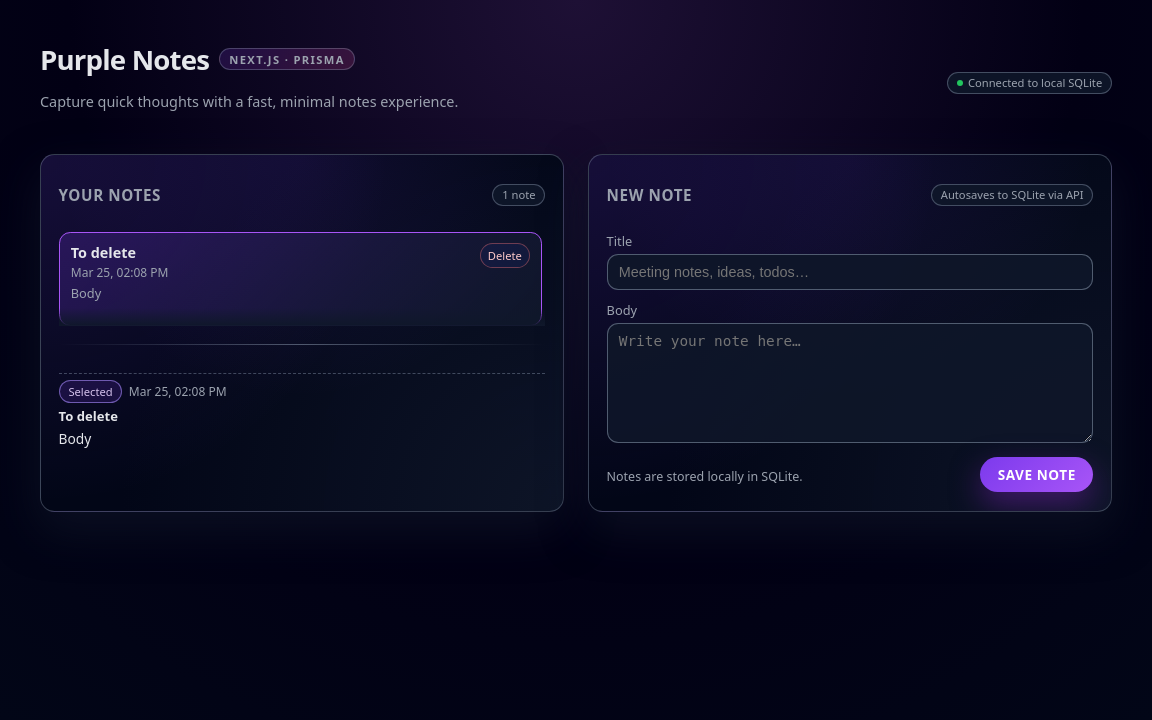
HomePage UI › deletes a note
Click the button with aria-label "delete note". click: (505, 255)
box: [480,243,530,268]
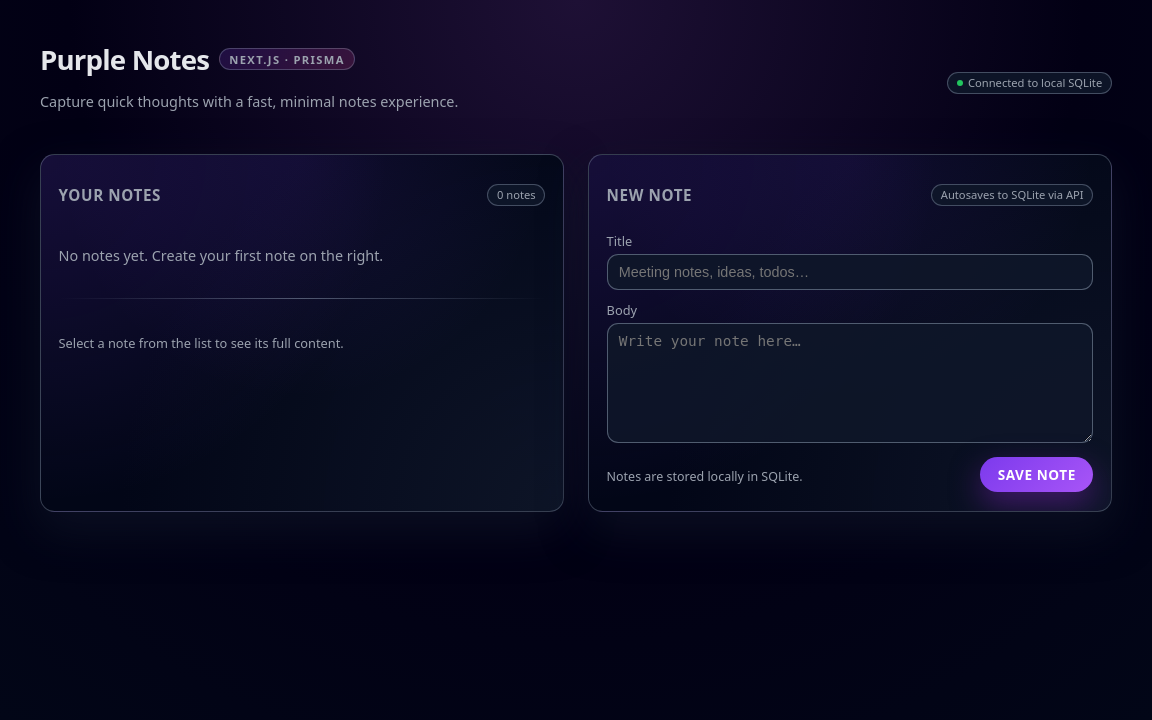
Check: the text "To delete" is gone
